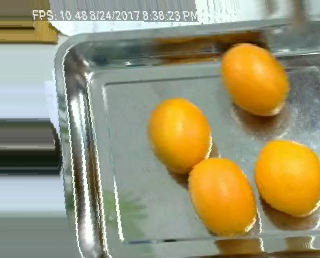Orange: (188, 157, 258, 238), (219, 42, 288, 116), (255, 138, 320, 216), (148, 98, 212, 174)
